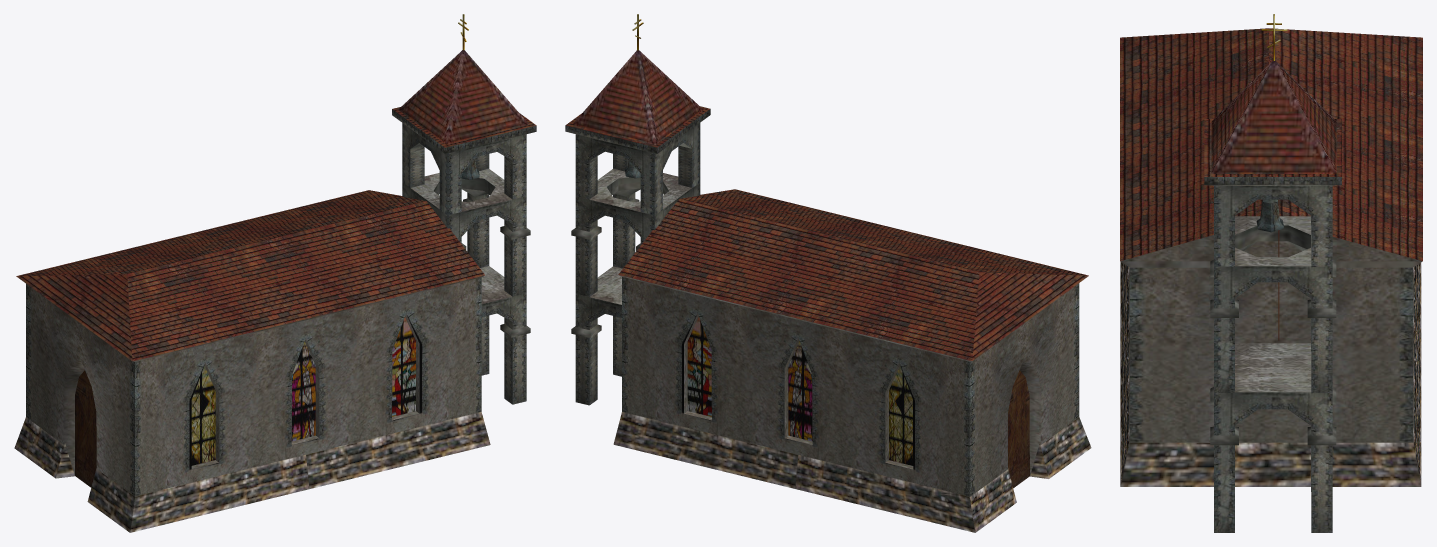
The model's file is monastery.fbx.
3 views of the same model, side by side, from view 1: azimuth 30°, elevation 25°; view 2: azimuth 150°, elevation 25°; view 3: azimuth 270°, elevation 25° (orthographic). The views are drawn at different scales.
Visible parts, largest first — view 1: obj0; view 2: obj0; view 3: obj0.
Part boxes in pixels (x1,y1,x2,y2): obj0: [14, 14, 536, 532]; obj0: [565, 14, 1091, 532]; obj0: [1120, 14, 1422, 532].
Size of the model in its own units: 21.66 by 17.91 by 9.96.
